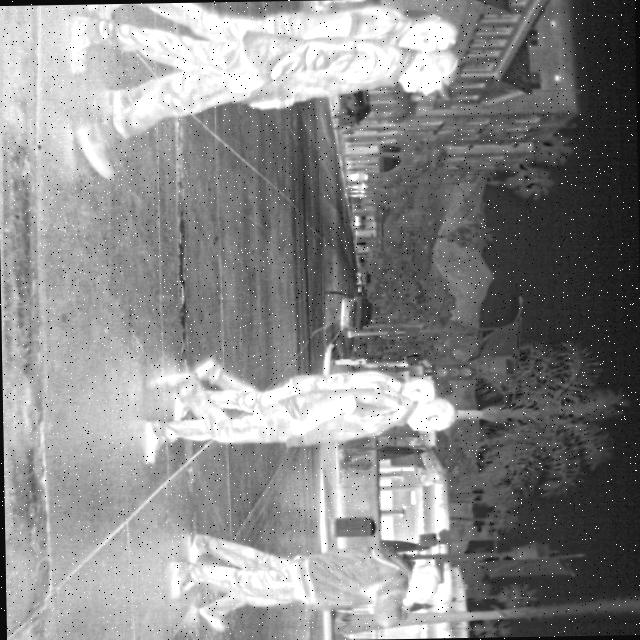Pedestrian: (58, 5, 460, 178), (92, 0, 463, 123), (138, 368, 463, 466), (186, 528, 437, 634), (167, 355, 438, 422), (164, 542, 436, 604), (308, 0, 377, 6)
Vehicle: (333, 290, 376, 332)
